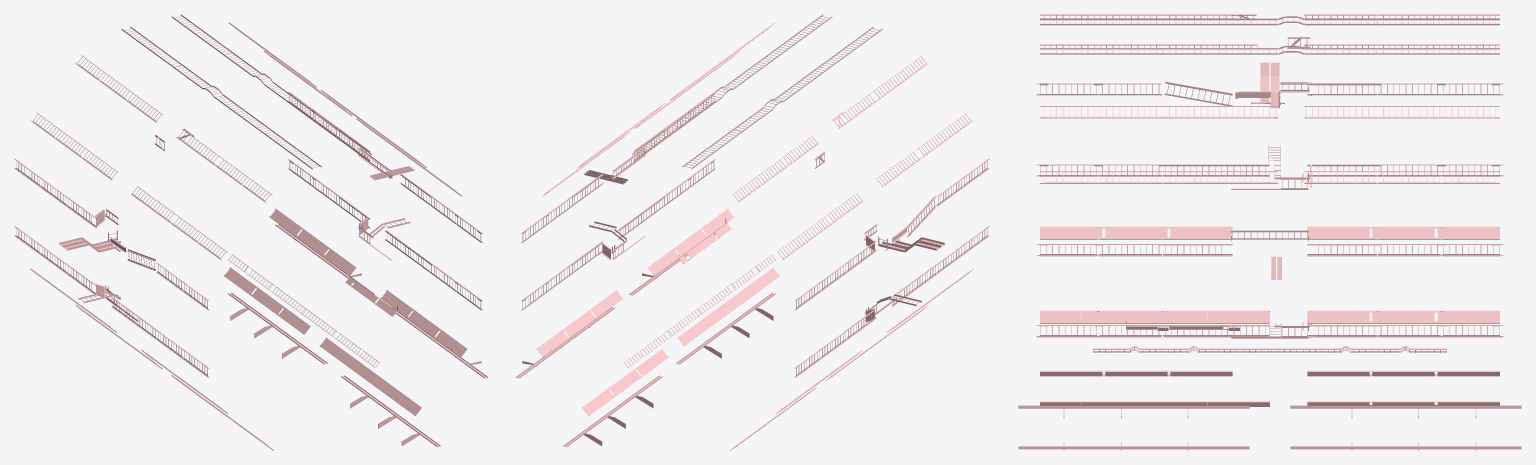
Rendered from Serv-Muon-Cable Trays Inside Barrel.glb.
The picture shows the model from 3 angles, left to right: view 1: azimuth 30°, elevation 25°; view 2: azimuth 150°, elevation 25°; view 3: azimuth 270°, elevation 25°; orthographic projection. The views are drawn at different scales.
Parts seen in each view (by area): view 1: Cabble Trays Inside Barrel; view 2: Cabble Trays Inside Barrel; view 3: Cabble Trays Inside Barrel.
Boxes of the visible parts, x1,y1,x2,y2 form: Cabble Trays Inside Barrel: [14, 14, 487, 450]; Cabble Trays Inside Barrel: [516, 14, 989, 450]; Cabble Trays Inside Barrel: [1018, 14, 1521, 450].
Size of the model in its own units: 23.41 by 19.81 by 24.15.
